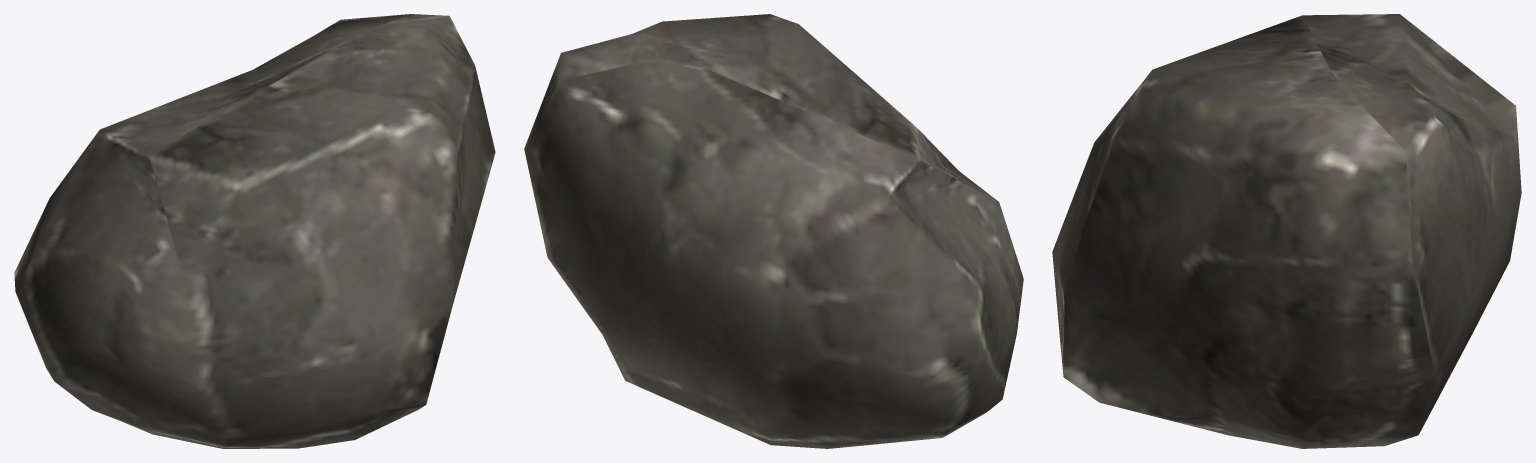
The model's file is SC_HDstone03.FBX.
3 views of the same model, side by side, from view 1: azimuth 30°, elevation 25°; view 2: azimuth 150°, elevation 25°; view 3: azimuth 270°, elevation 25° (orthographic). The views are drawn at different scales.
Parts seen in each view (by area): view 1: SC_HDstone03; view 2: SC_HDstone03; view 3: SC_HDstone03.
Boxes of the visible parts, <box> form: SC_HDstone03: <box>14,14,495,448</box>; SC_HDstone03: <box>524,14,1023,448</box>; SC_HDstone03: <box>1052,14,1521,448</box>.
Size of the model in its own units: 1.28 by 0.8711 by 0.9969.
